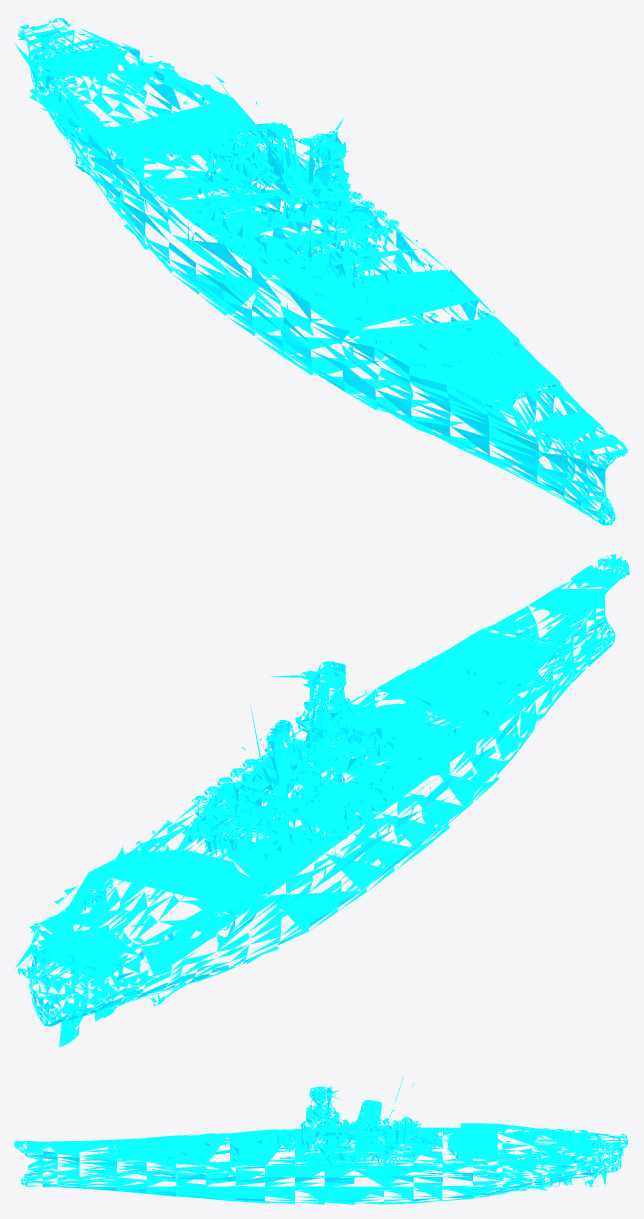
Rendered from Aki.glb.
3 renders of one model, top to bottom at view 1: azimuth 30°, elevation 25°; view 2: azimuth 150°, elevation 25°; view 3: azimuth 270°, elevation 25°, orthographic. The views are drawn at different scales.
Size of the model in its own units: 2.87 by 3.52 by 17.72.
